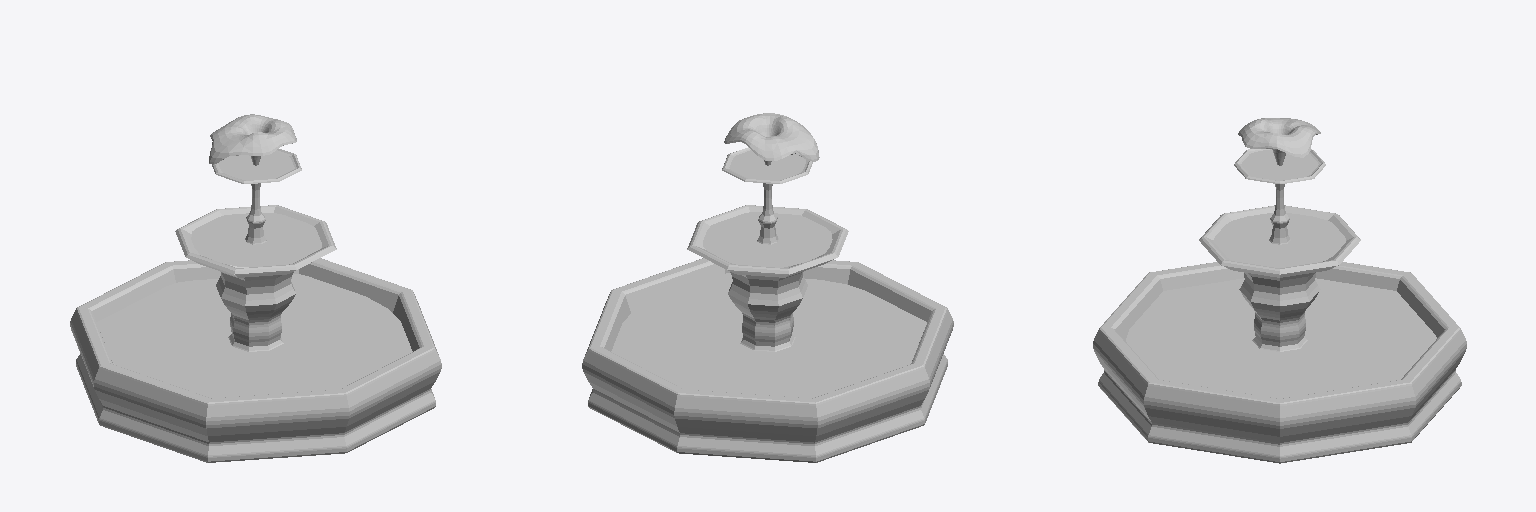
Rendered from Fuente.obj.
The picture shows the model from 3 angles: view 1: azimuth 30°, elevation 25°; view 2: azimuth 150°, elevation 25°; view 3: azimuth 270°, elevation 25°; orthographic projection.
Parts seen in each view (by area): view 1: uploads_files_[number redacted]_FontanRender1:Mesh; view 2: uploads_files_[number redacted]_FontanRender1:Mesh; view 3: uploads_files_[number redacted]_FontanRender1:Mesh.
Boxes of the visible parts, <box> form: uploads_files_[number redacted]_FontanRender1:Mesh: <box>70,114,441,462</box>; uploads_files_[number redacted]_FontanRender1:Mesh: <box>582,113,953,462</box>; uploads_files_[number redacted]_FontanRender1:Mesh: <box>1093,118,1466,463</box>.
Size of the model in its own units: 24.36 by 18.97 by 24.36.